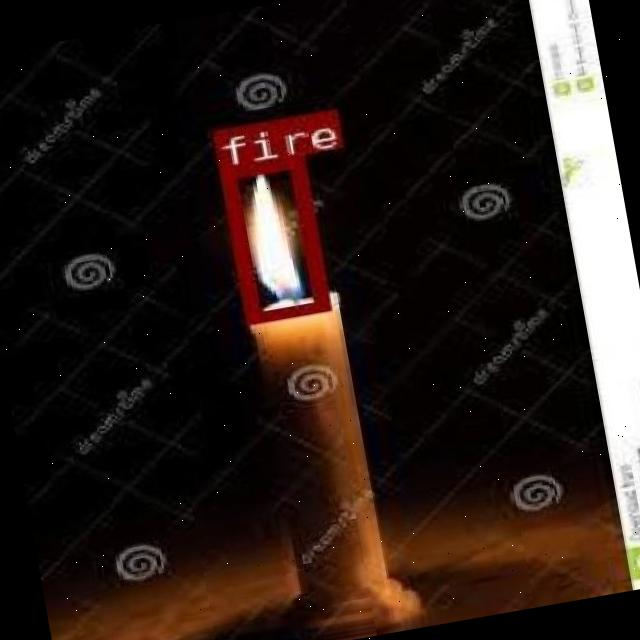fire: (217, 154, 328, 322)
